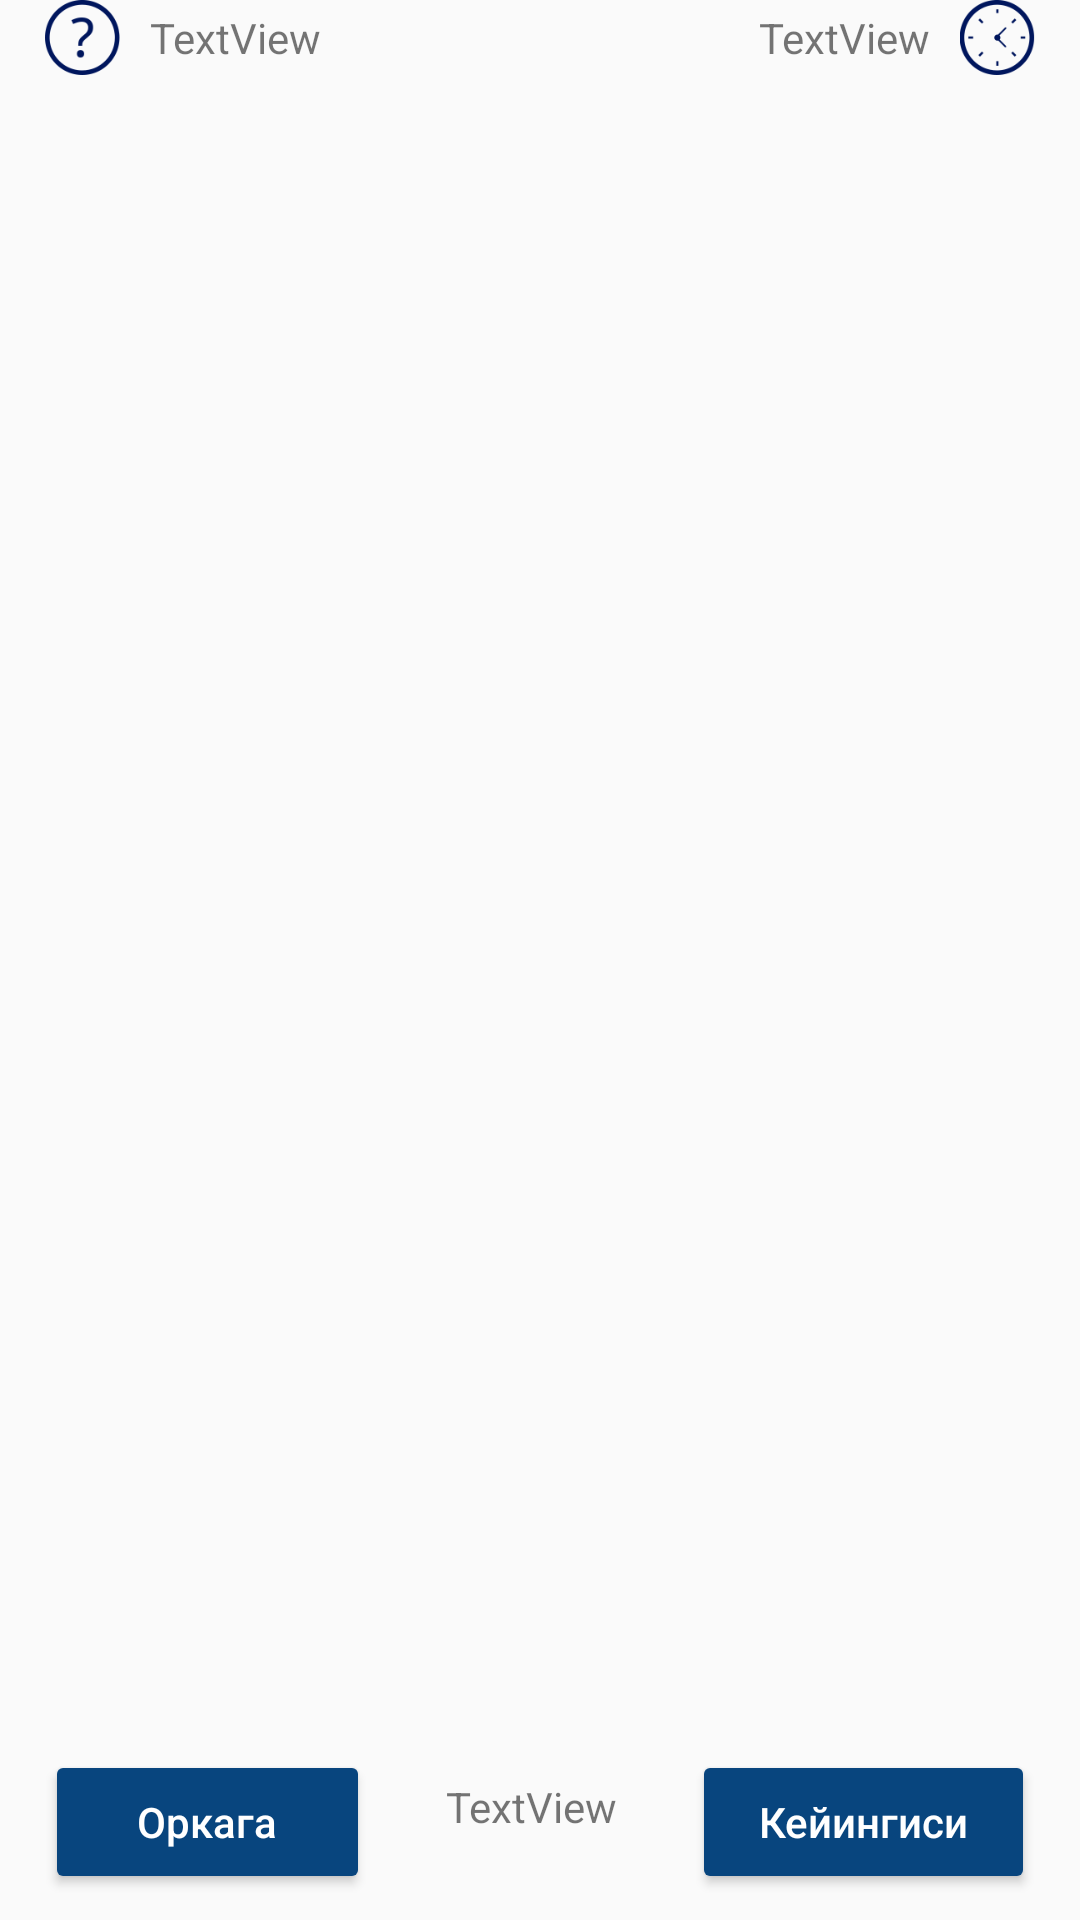

Icons on this 1080x1920 Android screen, each with the point to tap as [x,y]:
question pic: [82,37]
time pic: [997,37]
